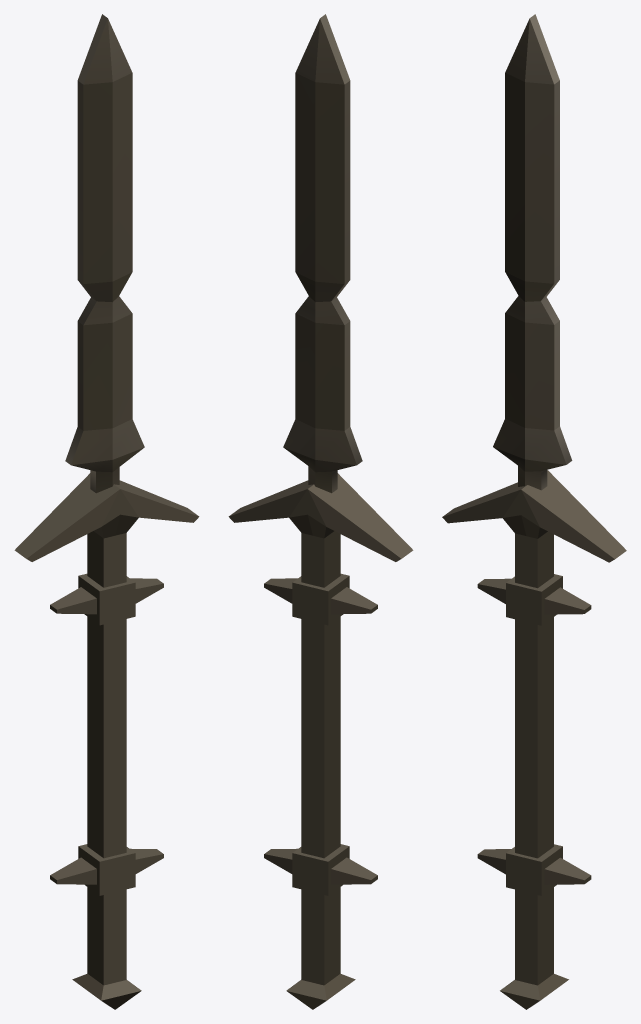
The model's file is SF_Wep_Undead_Spear_01.fbx.
3 renders of one model, left to right at view 1: azimuth 30°, elevation 25°; view 2: azimuth 150°, elevation 25°; view 3: azimuth 330°, elevation 25°, orthographic.
Parts seen in each view (by area): view 1: SF_Wep_Undead_Spear_01; view 2: SF_Wep_Undead_Spear_01; view 3: SF_Wep_Undead_Spear_01.
Part boxes in pixels (x1=…): SF_Wep_Undead_Spear_01: x1=14, y1=14, x2=199, y2=1009; SF_Wep_Undead_Spear_01: x1=228, y1=14, x2=413, y2=1009; SF_Wep_Undead_Spear_01: x1=442, y1=14, x2=626, y2=1009.
Bounding box in the file's own units: 0.6702 × 3.65 × 0.1944.
